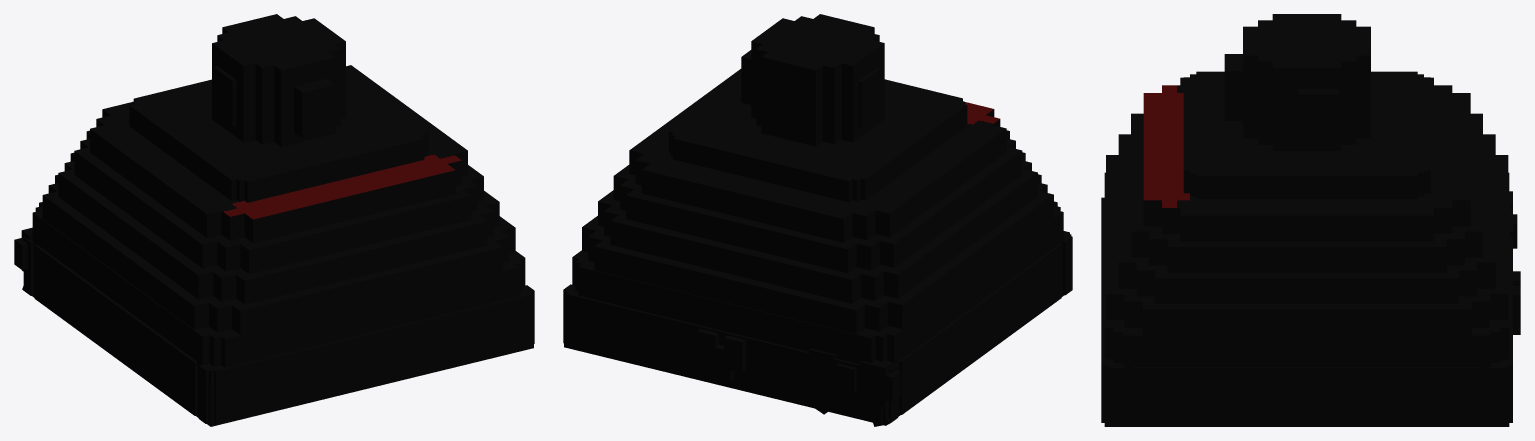
Rendered from hat_cozy_pom.obj.
3 views of the same model, side by side, from view 1: azimuth 30°, elevation 25°; view 2: azimuth 150°, elevation 25°; view 3: azimuth 270°, elevation 25° (orthographic). The views are drawn at different scales.
Size of the model in its own units: 0.5719 by 0.4604 by 0.5731.
